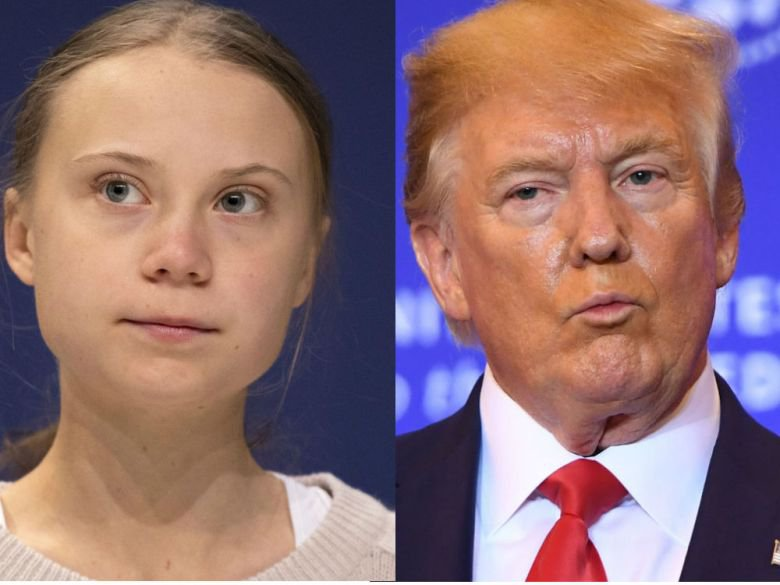noMask: (402, 13, 776, 418), (1, 9, 343, 407)
